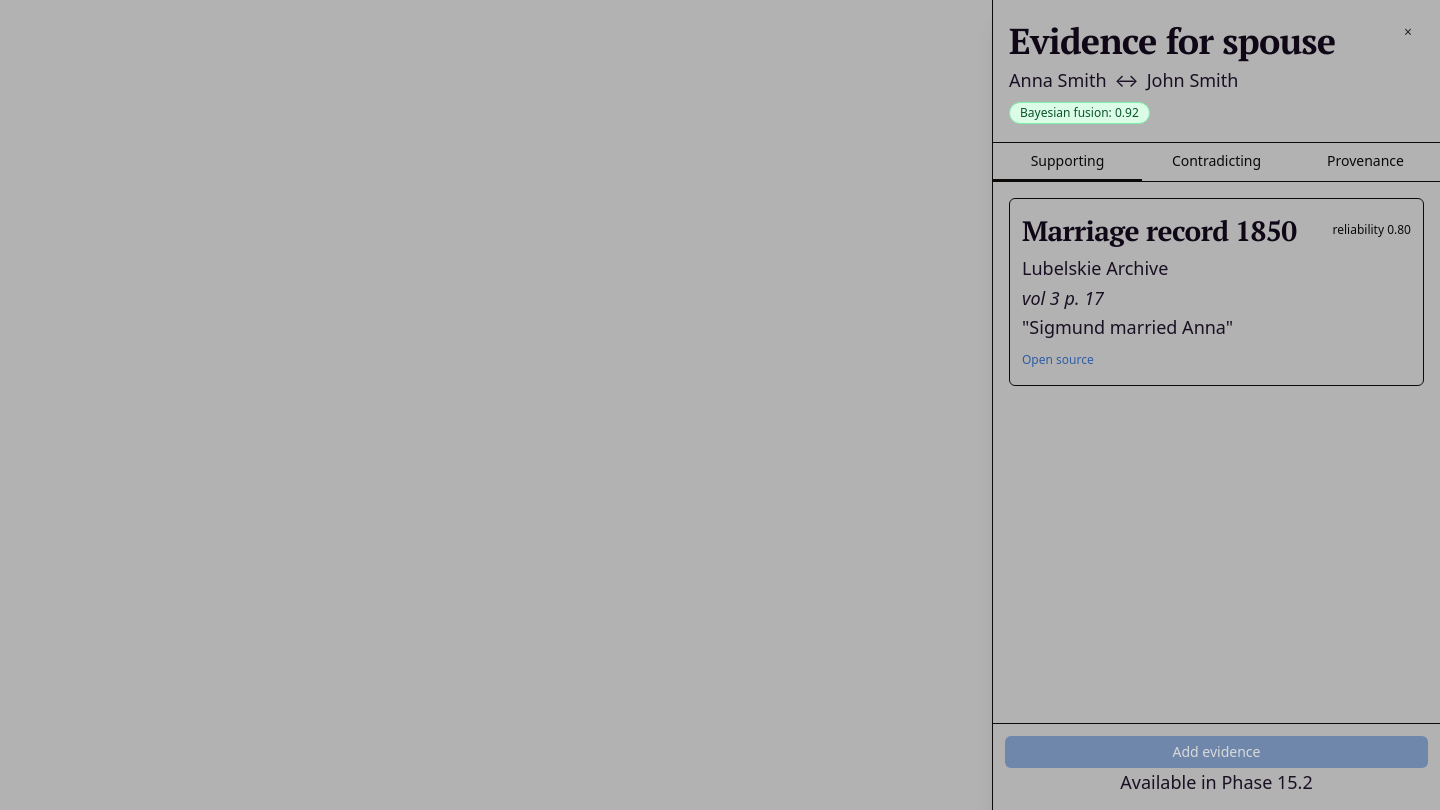
Test case: RelationshipEvidencePanel › shows neutral empty state on contradicting tab when none
expect the list item with test id "supporting-source-0" is shown: met, box [1009,198,1424,386]
Click the tab with test id "evidence-tab-contradicting". click: (1216, 162)
box: [1142,143,1291,181]
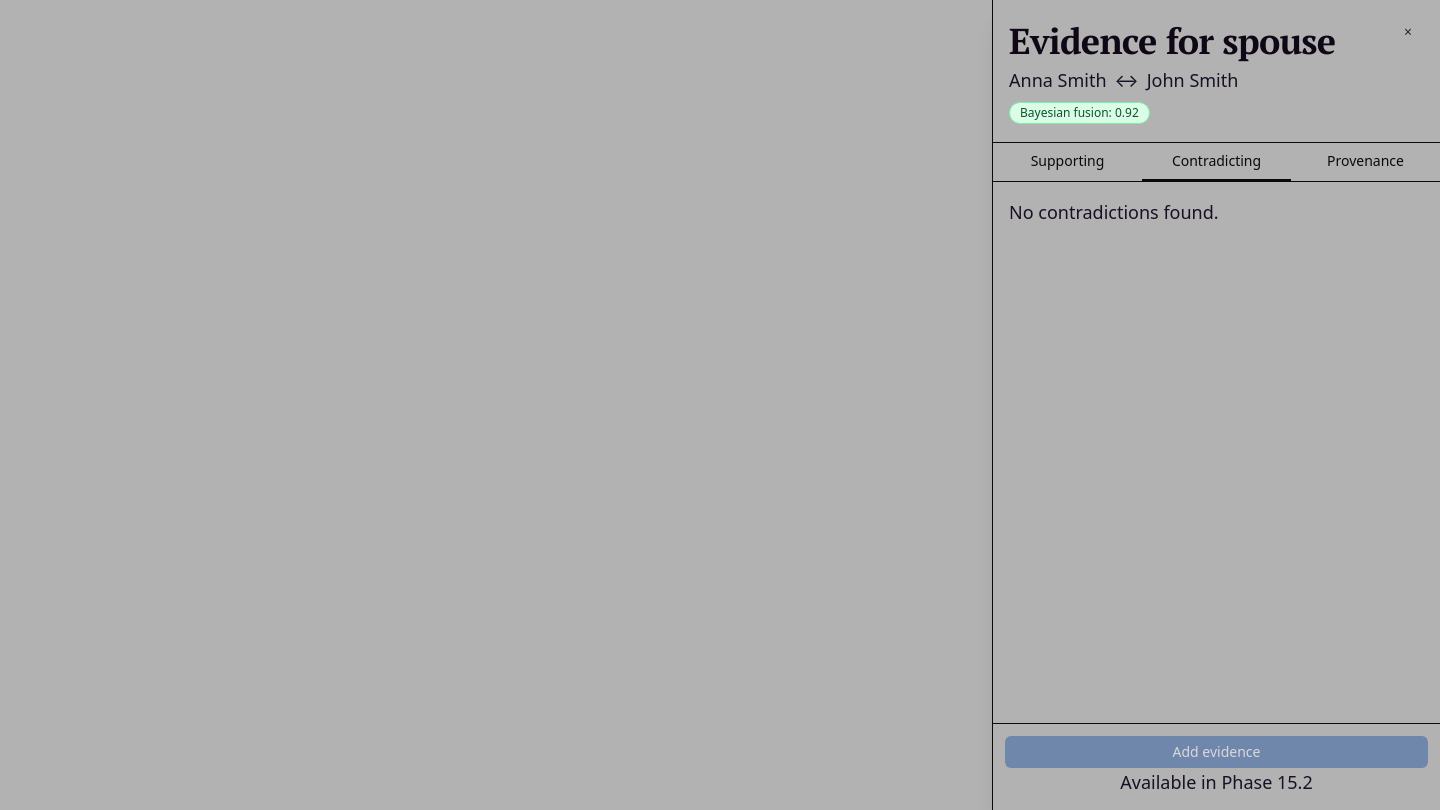
expect the text "No contradictions found." is shown: met, box [1009,200,1219,224]
